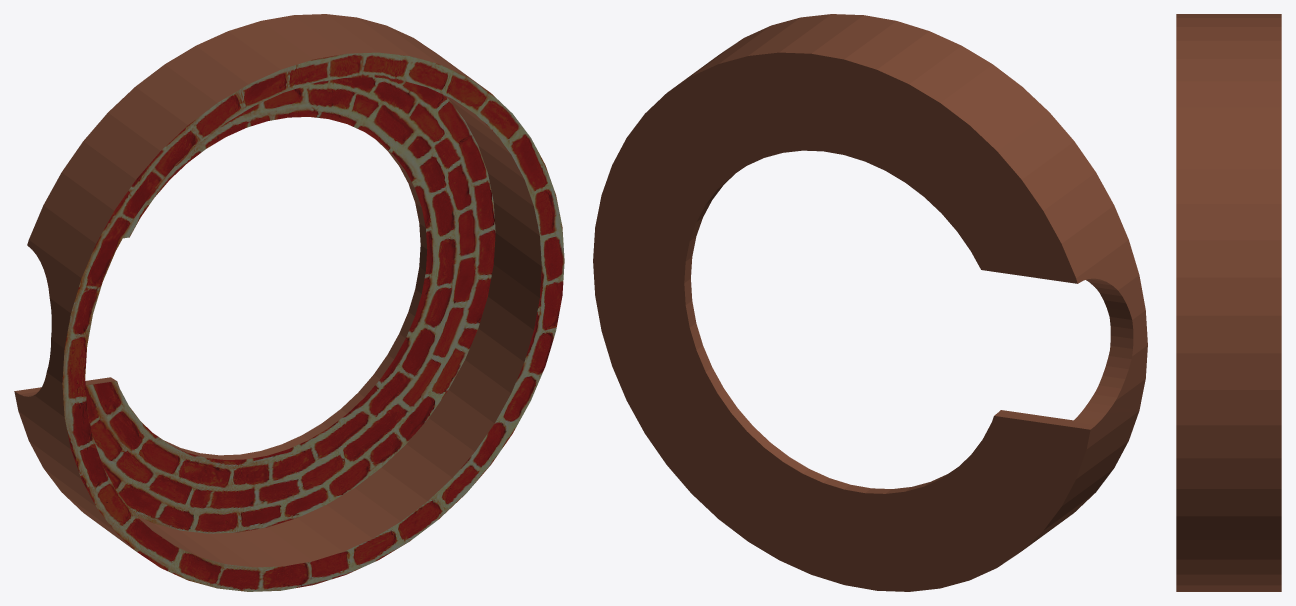
Rendered from pool_017.obj.
The picture shows the model from 3 angles, left to right: view 1: azimuth 30°, elevation 25°; view 2: azimuth 150°, elevation 25°; view 3: azimuth 270°, elevation 25°; orthographic projection.
Size of the model in its own units: 22 by 22 by 4.
